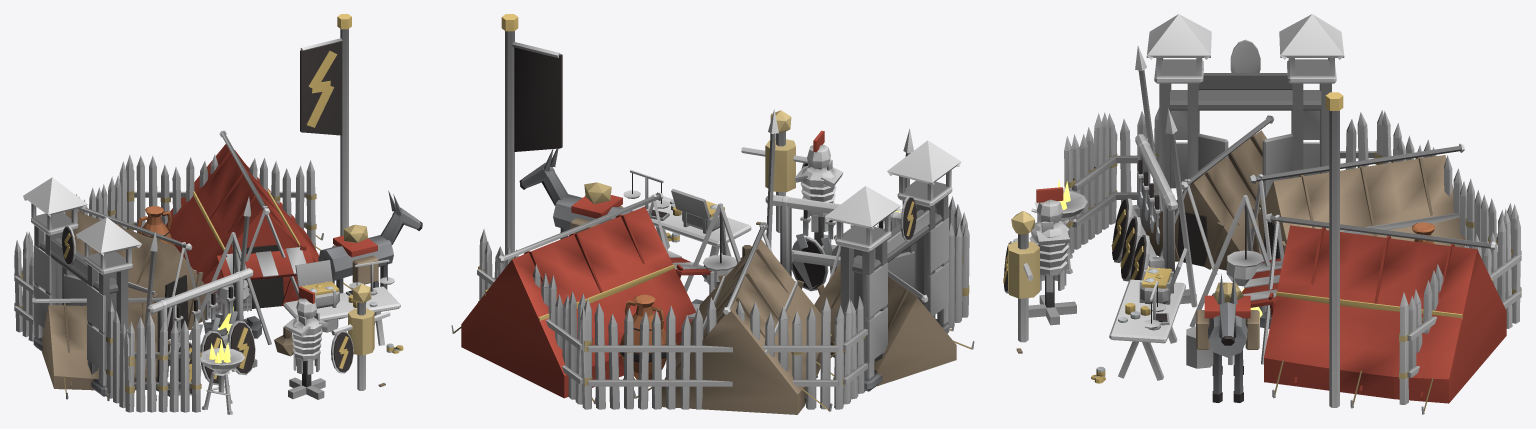
Rendered from misthophoros-camp-l3.glb.
3 renders of one model, left to right at view 1: azimuth 30°, elevation 25°; view 2: azimuth 150°, elevation 25°; view 3: azimuth 270°, elevation 25°, orthographic. The views are drawn at different scales.
Visible parts, largest first — view 1: misthophoros-camp-l3; view 2: misthophoros-camp-l3; view 3: misthophoros-camp-l3.
Boxes of the visible parts, x1=… form: misthophoros-camp-l3: x1=14, y1=14, x2=422, y2=414; misthophoros-camp-l3: x1=451, y1=14, x2=974, y2=414; misthophoros-camp-l3: x1=1003, y1=14, x2=1521, y2=414.
Bounding box in the file's own units: 1.61 × 1.05 × 1.57.
